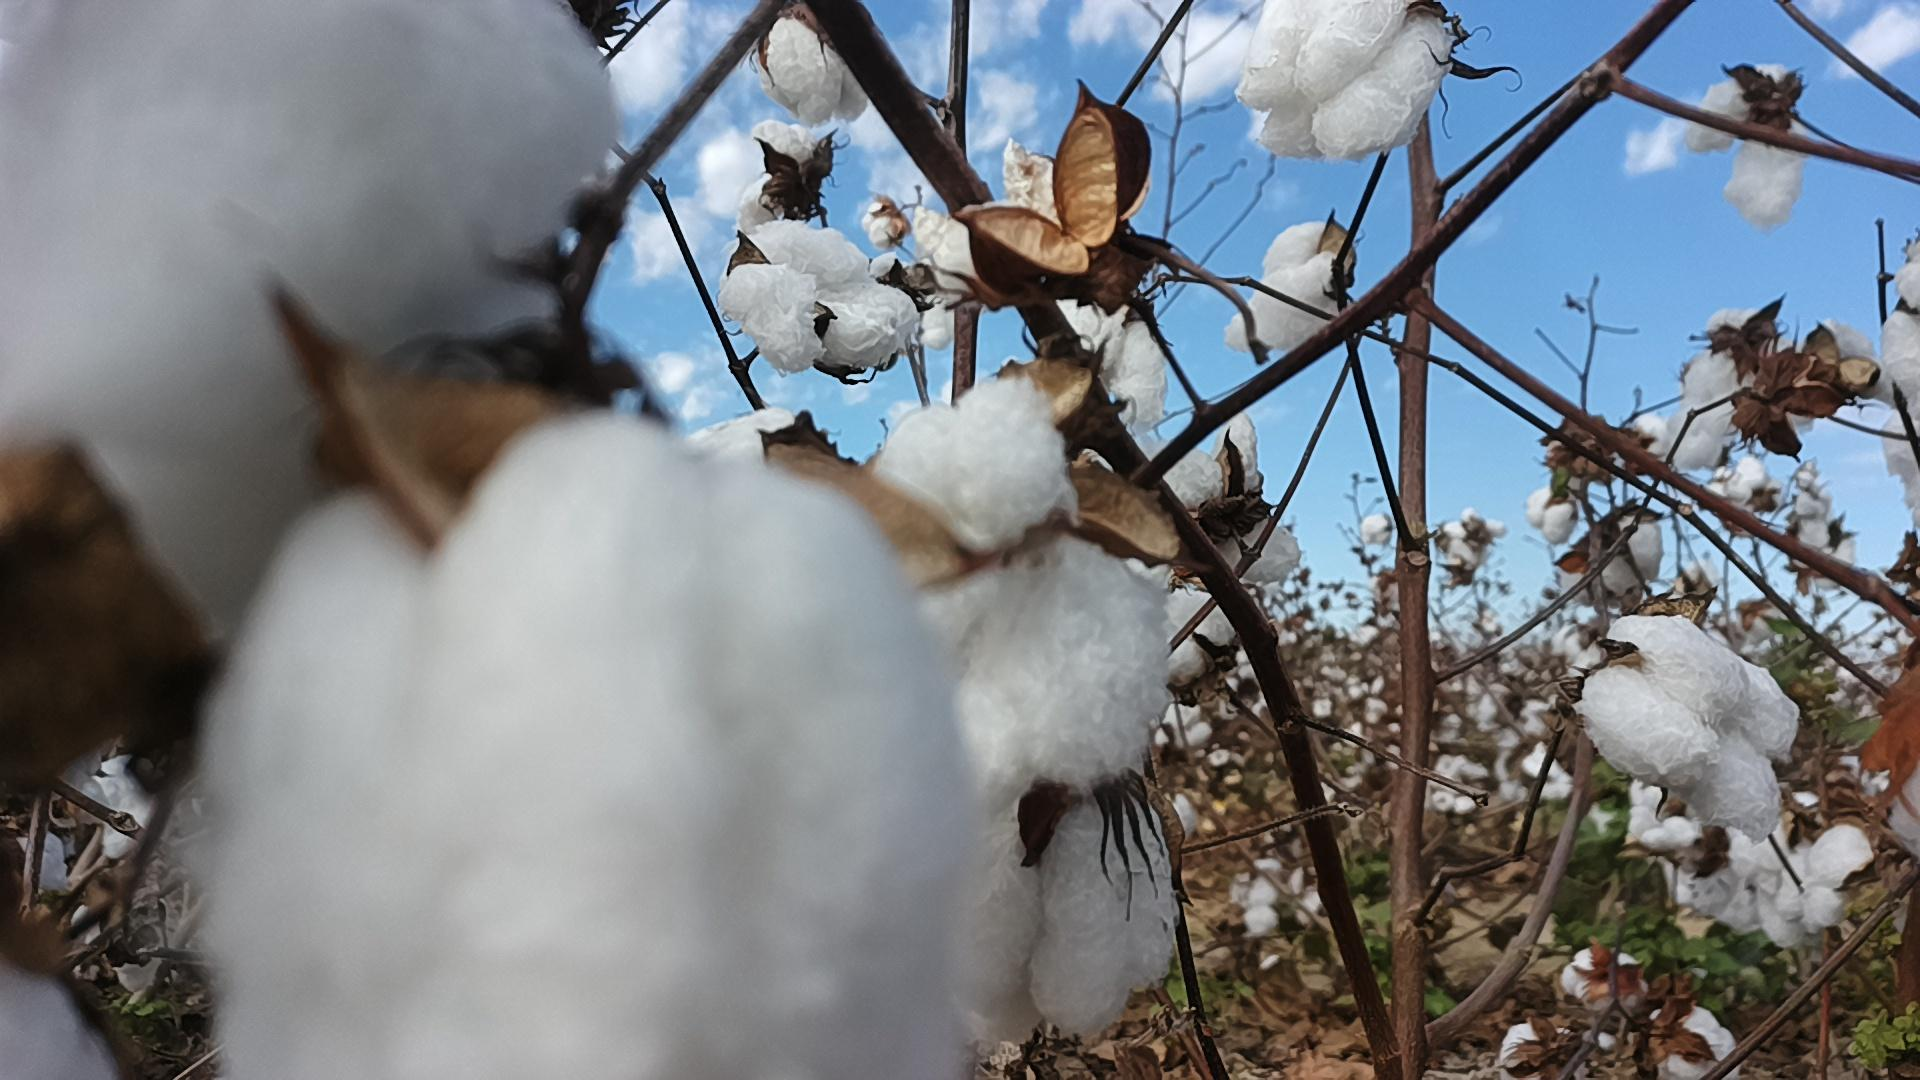cotton_ready: (200, 413, 976, 1080), (0, 0, 608, 638), (868, 376, 1174, 789), (961, 785, 1180, 1054), (1585, 621, 1797, 849), (1244, 0, 1456, 166), (1503, 943, 1746, 1080), (723, 223, 919, 375), (1663, 307, 1825, 473), (1159, 415, 1303, 585), (1731, 795, 1870, 945), (1685, 66, 1811, 231), (1224, 225, 1350, 357), (1054, 295, 1175, 421), (0, 968, 133, 1080), (752, 16, 873, 125), (1656, 827, 1758, 945), (911, 206, 988, 357), (1878, 256, 1920, 521), (1557, 513, 1668, 597), (1158, 593, 1247, 691)
